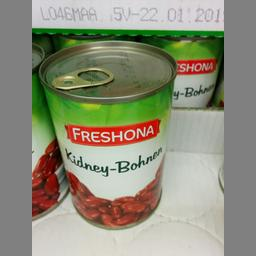beans: (36, 39, 178, 230)
